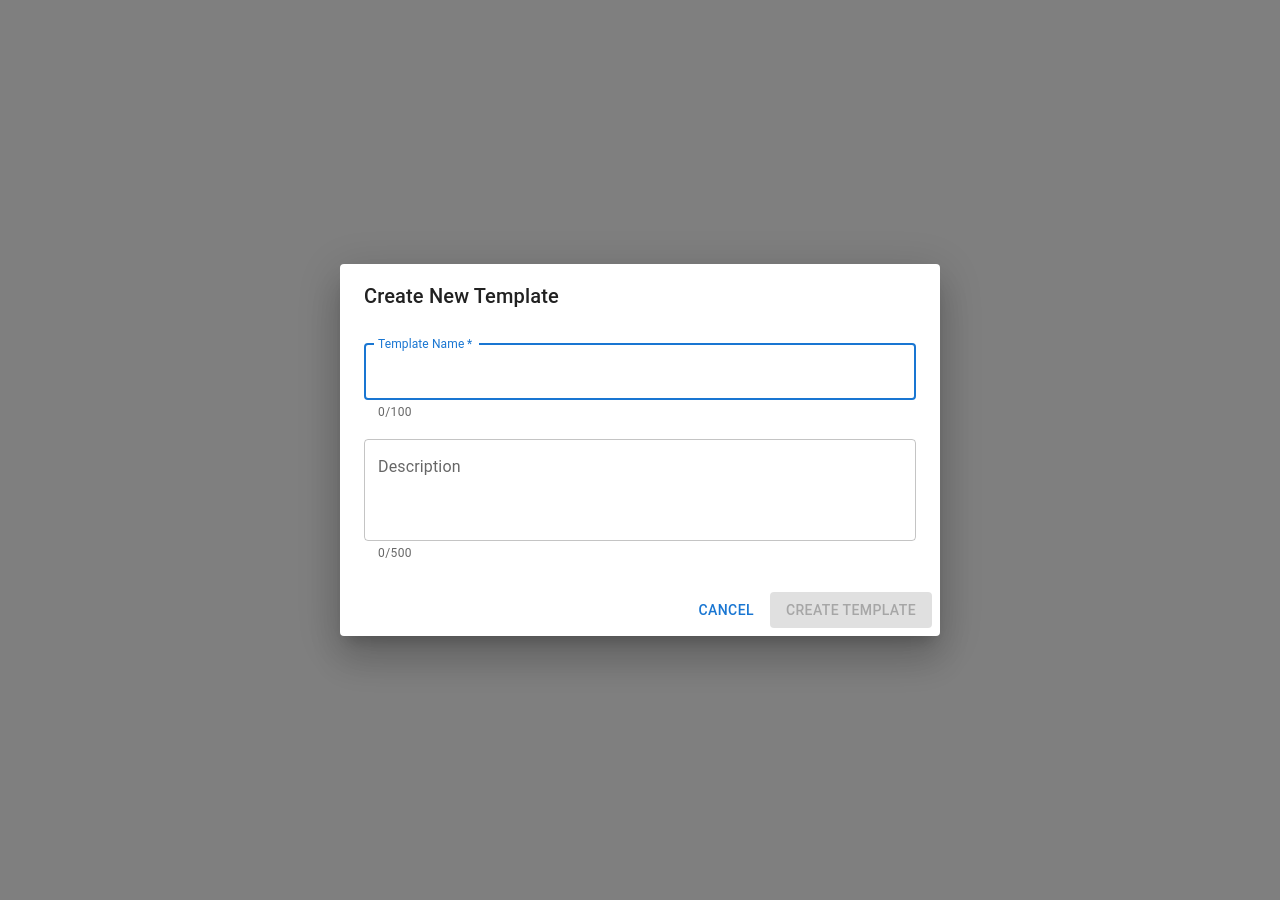
Test: TemplateCreationDialog › validates minimum name length
This screenshot has width=1280, height=900.
# Since MIN_NAME_LENGTH is 1, test with empty string after typing and deleting
Type "a" into the field labelled "Template Name *". click: (640, 372)
box: left=364, top=344, right=916, bottom=400
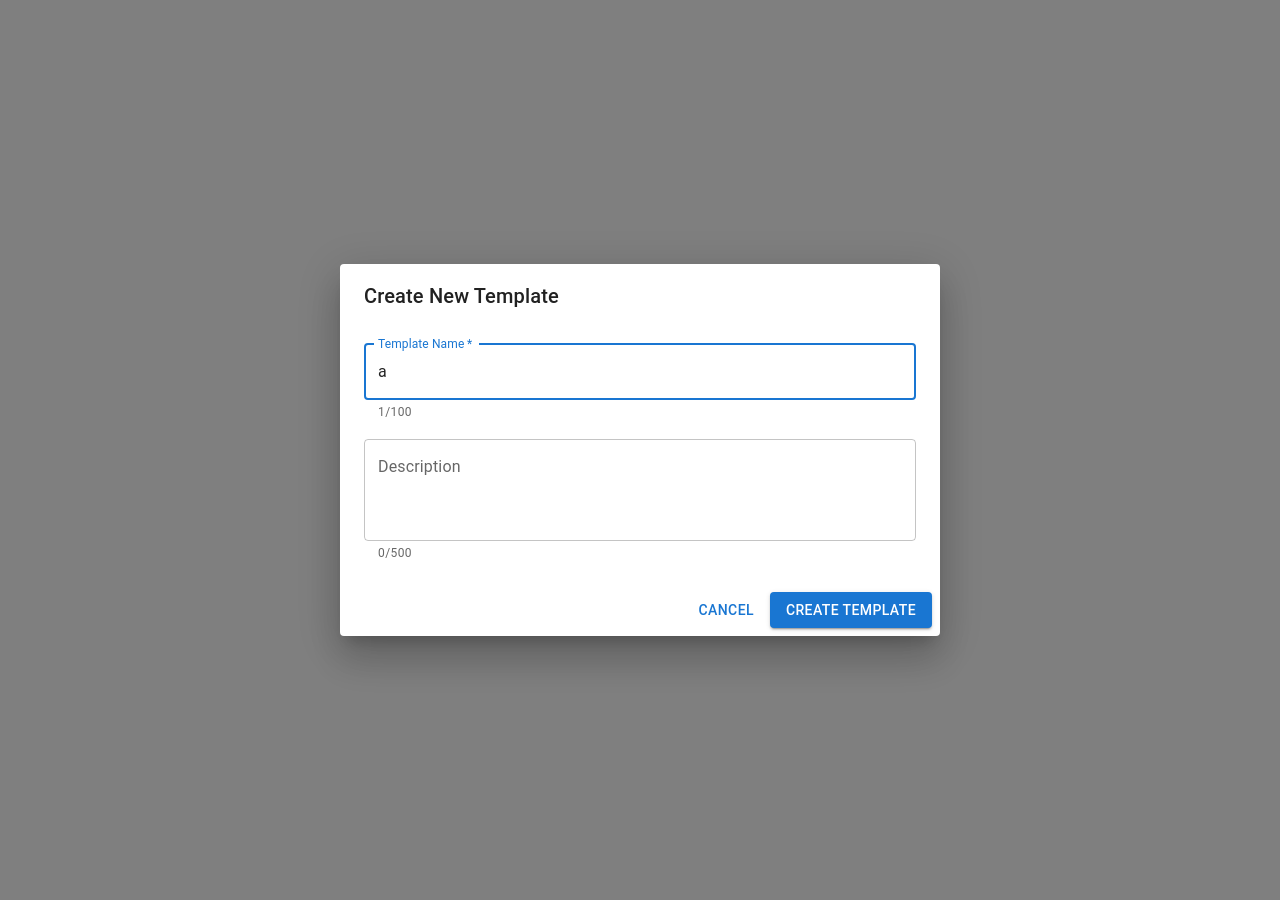
Clear the field labelled "Template Name *". click: (640, 372)
box: left=364, top=344, right=916, bottom=400
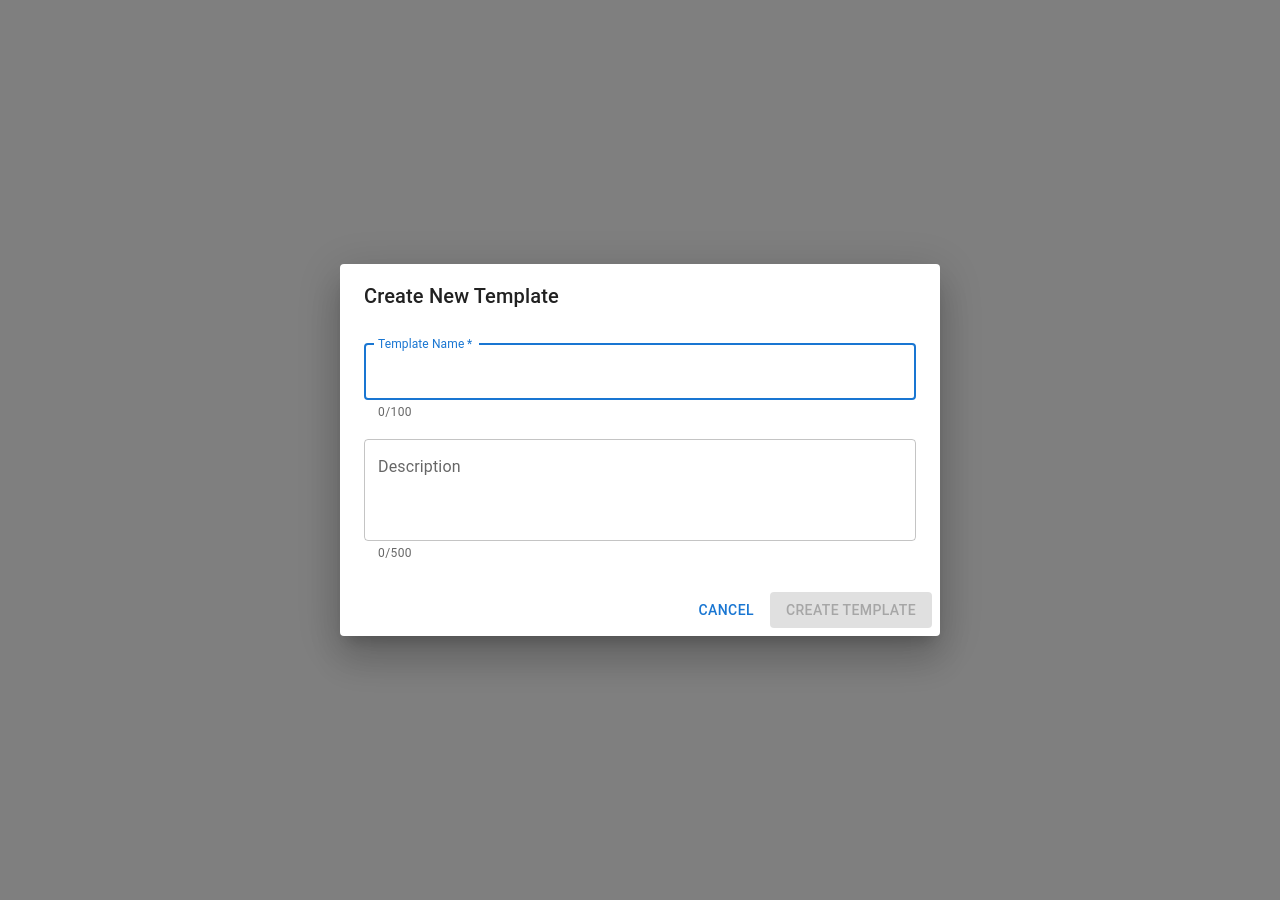
Result: the button "Create Template" is disabled at left=770, top=592, right=932, bottom=628
